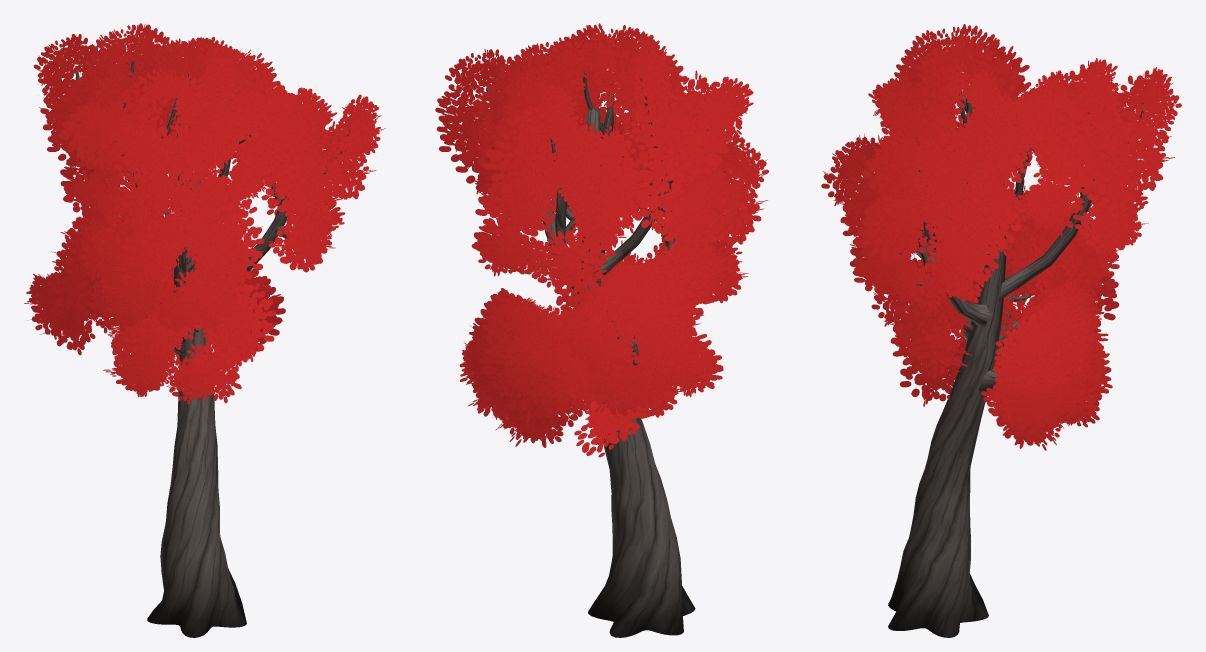
File: TwistedTree_5.glb
3 renders of one model, left to right at view 1: azimuth 30°, elevation 25°; view 2: azimuth 150°, elevation 25°; view 3: azimuth 270°, elevation 25°, orthographic. The views are drawn at different scales.
Visible parts, largest first — view 1: TwistedTree_5; view 2: TwistedTree_5; view 3: TwistedTree_5.
Part boxes in pixels (box(x1,y1,x2,y2)): TwistedTree_5: box(24, 23, 385, 637); TwistedTree_5: box(435, 23, 769, 637); TwistedTree_5: box(821, 24, 1181, 637).
Size of the model in its own units: 9.49 by 15.66 by 9.39.
Materials: 2 (2 with a texture image).
